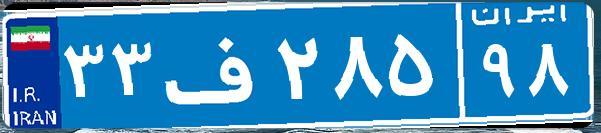2: (273, 28, 330, 110)
3: (57, 26, 110, 107), (110, 28, 158, 105)
5: (385, 28, 445, 110)
8: (330, 28, 385, 110), (525, 38, 570, 115)
9: (475, 38, 525, 113)
ف: (158, 15, 273, 115)
